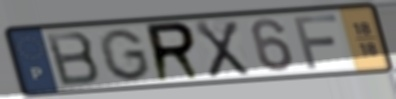6: (248, 17, 294, 74)
B: (42, 30, 103, 88)
F: (290, 12, 341, 71)
G: (96, 27, 154, 83)
R: (144, 20, 206, 84)
X: (192, 19, 253, 80)
